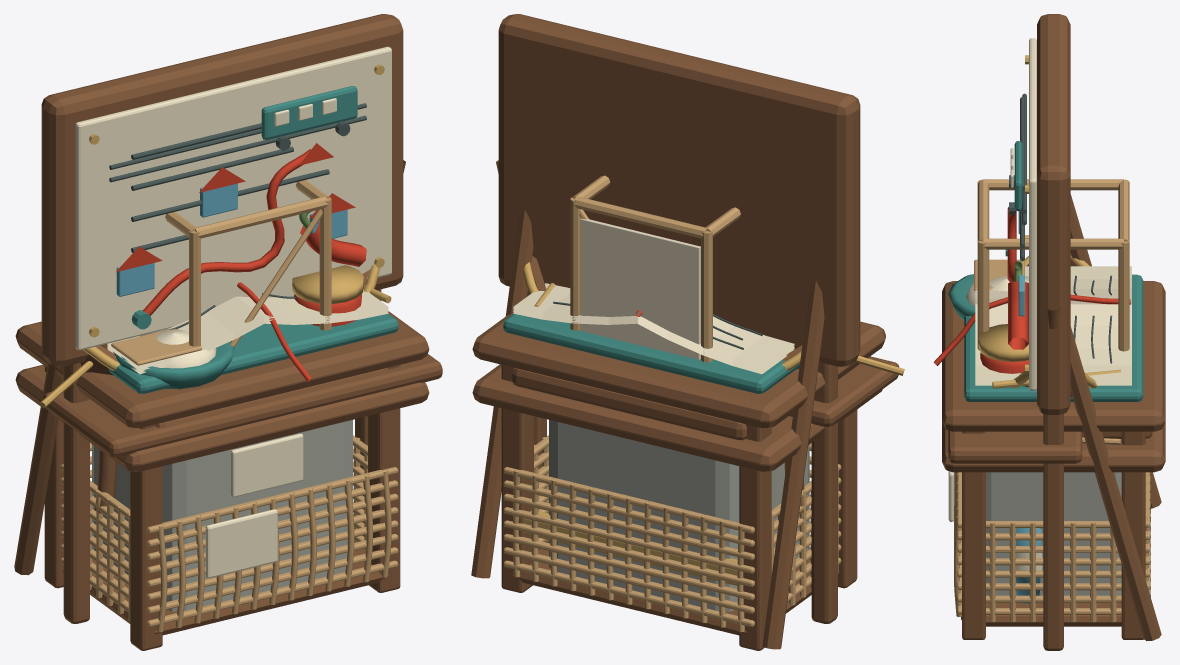
File: city-memories.glb
3 views of the same model, side by side, from view 1: azimuth 30°, elevation 25°; view 2: azimuth 150°, elevation 25°; view 3: azimuth 270°, elevation 25° (orthographic). The views are drawn at different scales.
Parts seen in each view (by area): view 1: market-recipeMesh, hotel-journalMesh, park-basketMesh, artisan-lanternMesh, river-keepsakeMesh, soi-routeMesh; view 2: market-recipeMesh, artisan-lanternMesh, hotel-journalMesh, park-basketMesh, river-keepsakeMesh; view 3: market-recipeMesh, hotel-journalMesh, artisan-lanternMesh, park-basketMesh, river-keepsakeMesh, soi-routeMesh.
Part boxes in pixels (box(x1,y1,x2,y2)): market-recipeMesh: box(14, 14, 442, 623); hotel-journalMesh: box(15, 282, 429, 650); park-basketMesh: box(60, 435, 398, 635); artisan-lanternMesh: box(15, 180, 429, 650); river-keepsakeMesh: box(40, 160, 405, 611); soi-routeMesh: box(109, 86, 366, 329); market-recipeMesh: box(471, 14, 899, 649); artisan-lanternMesh: box(472, 175, 882, 650); hotel-journalMesh: box(472, 283, 885, 650); park-basketMesh: box(503, 435, 841, 635); river-keepsakeMesh: box(496, 160, 904, 611); market-recipeMesh: box(948, 14, 1161, 650); hotel-journalMesh: box(933, 259, 1165, 639); artisan-lanternMesh: box(942, 179, 1165, 639); park-basketMesh: box(948, 471, 1150, 626); river-keepsakeMesh: box(986, 254, 1152, 595); soi-routeMesh: box(1005, 93, 1026, 316).
Size of the model in its own units: 1.3 by 1.7 by 0.7265.
